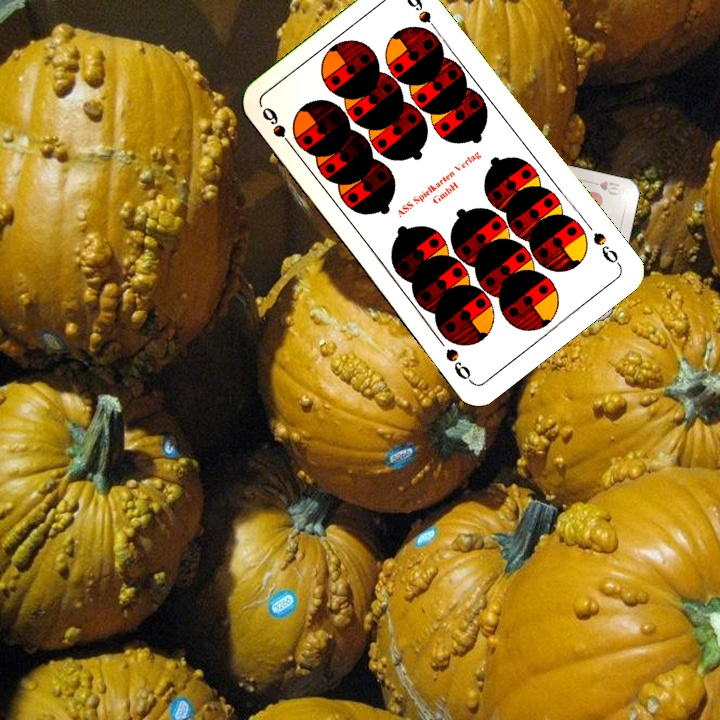H10: (584, 177, 625, 198)
S9: (257, 102, 299, 154), (589, 228, 624, 269)
